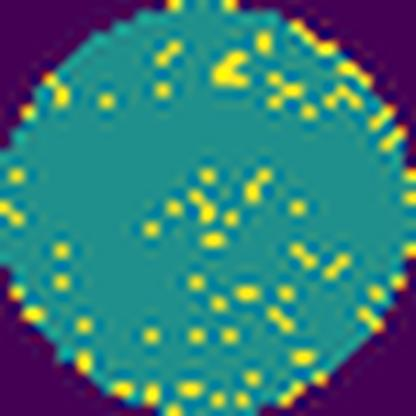Loc: (208, 49, 254, 92)
